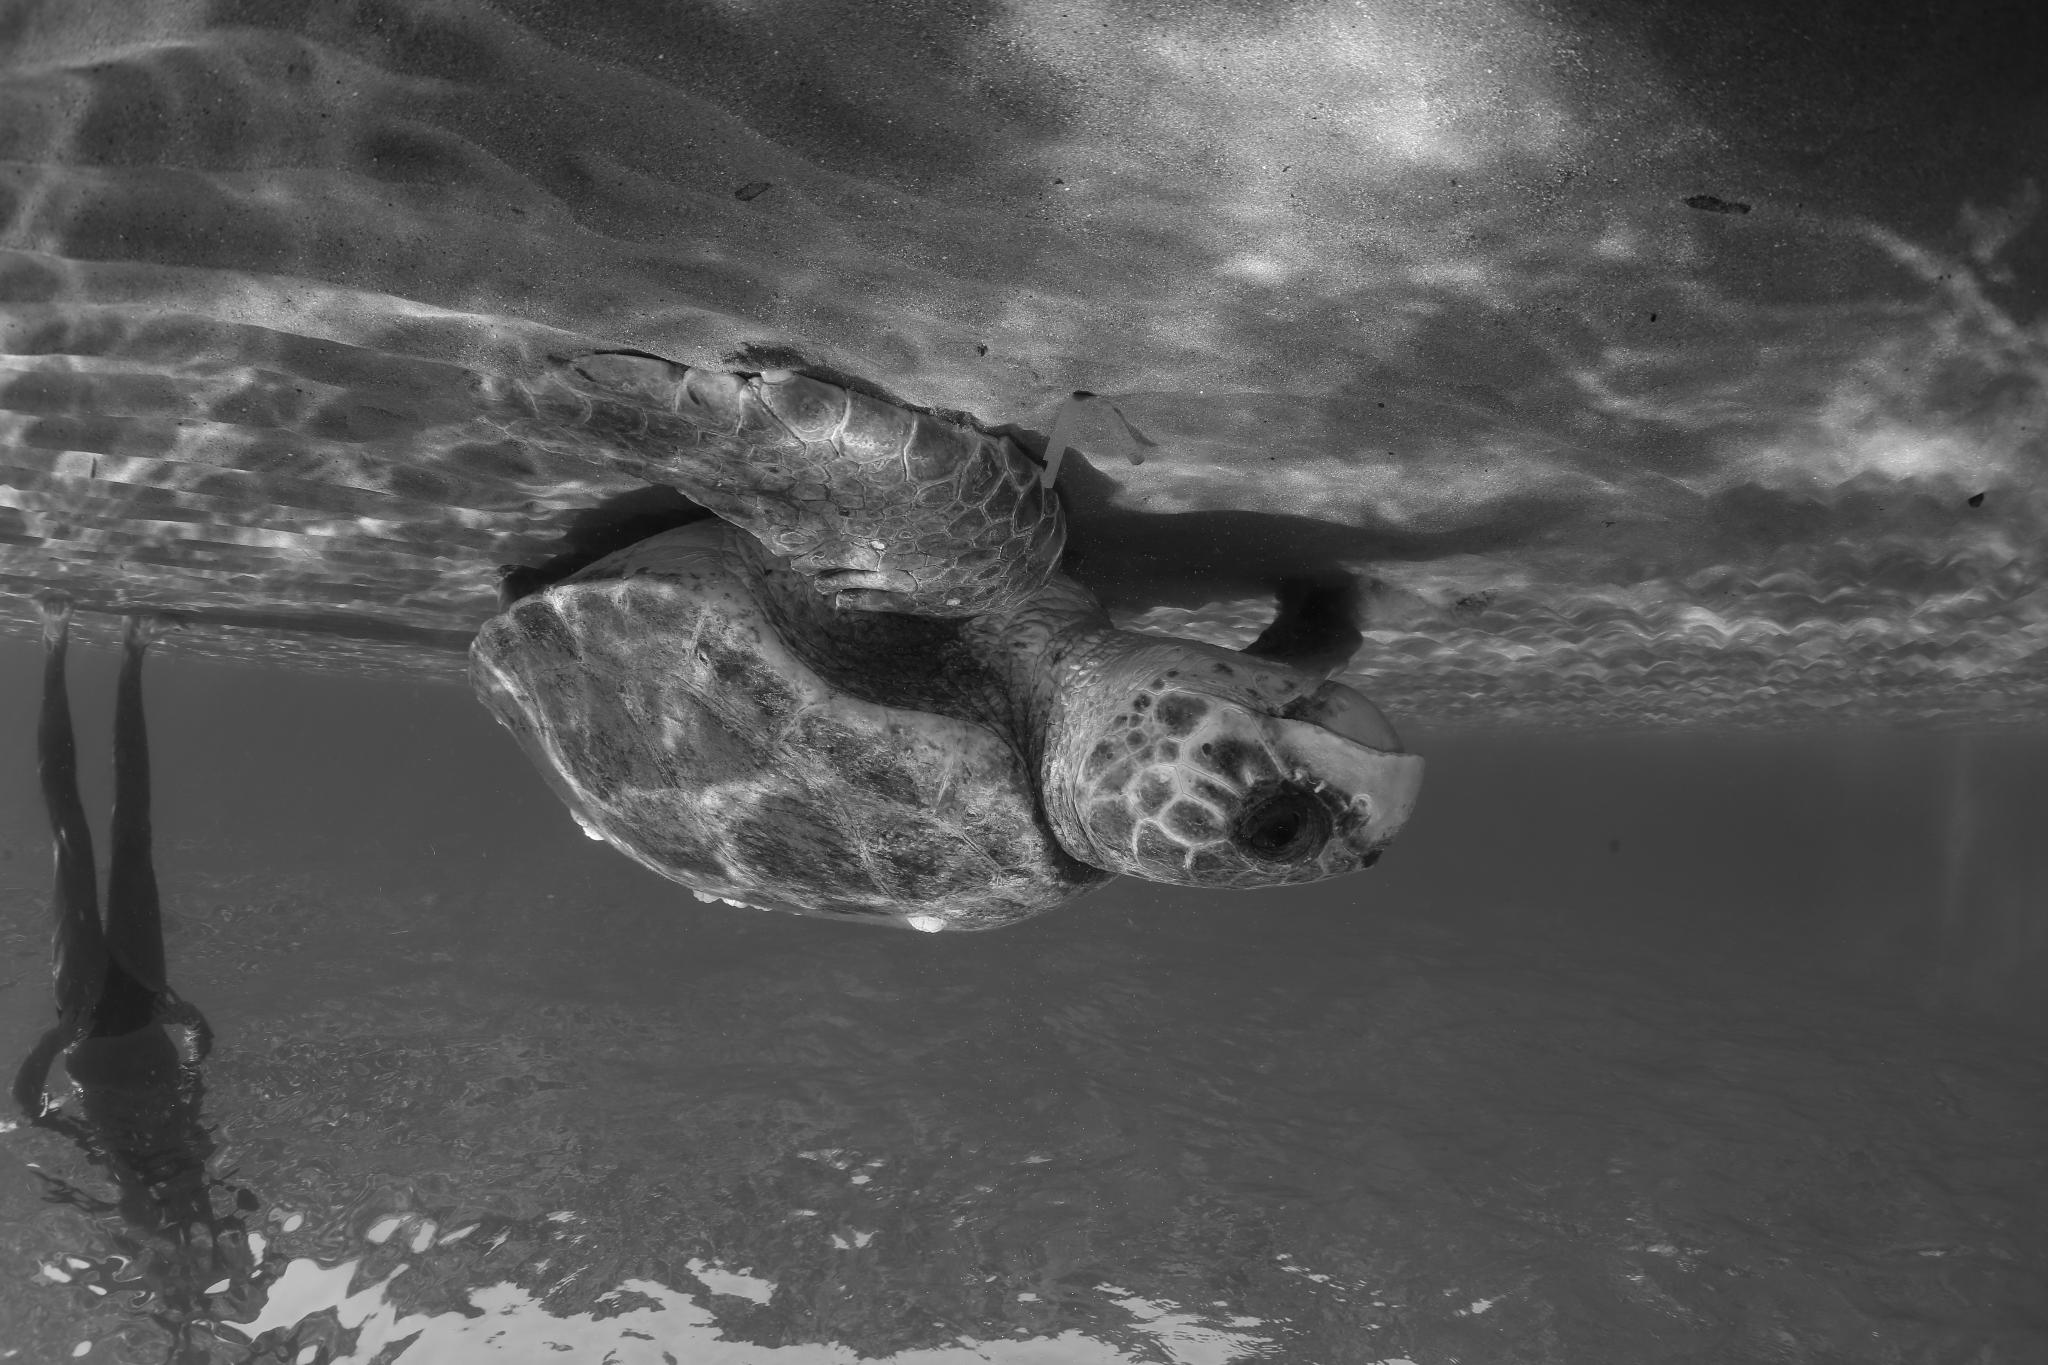Head: (1042, 630, 1424, 889)
